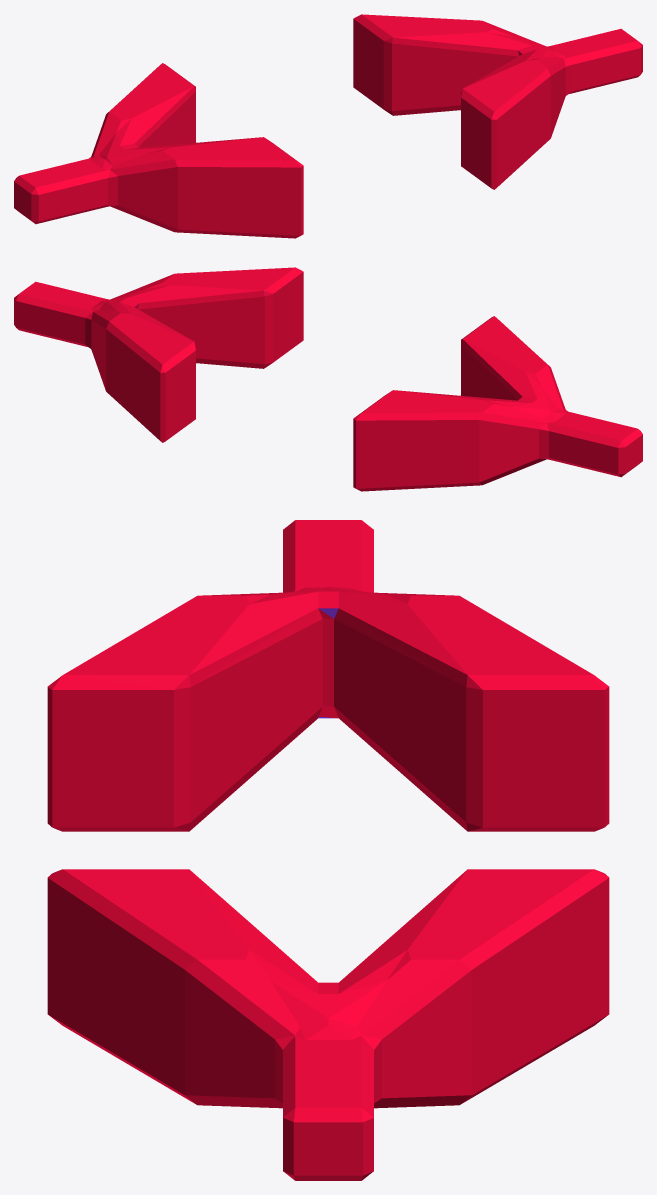
Rendered from CarryArm.obj.
The picture shows the model from 3 angles, top to bottom: view 1: azimuth 30°, elevation 25°; view 2: azimuth 150°, elevation 25°; view 3: azimuth 270°, elevation 25°; orthographic projection. The views are drawn at different scales.
Parts seen in each view (by area): view 1: 立方体; view 2: 立方体; view 3: 立方体.
Part boxes in pixels (bbox=[...]): 立方体: bbox=[14, 14, 642, 238]; 立方体: bbox=[14, 267, 642, 491]; 立方体: bbox=[47, 520, 609, 1180].
Bounding box in the file's own units: 5.19 × 0.6344 × 2.06.
1 material, 1 textured.
